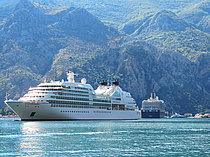Ship: (6, 70, 146, 125)
